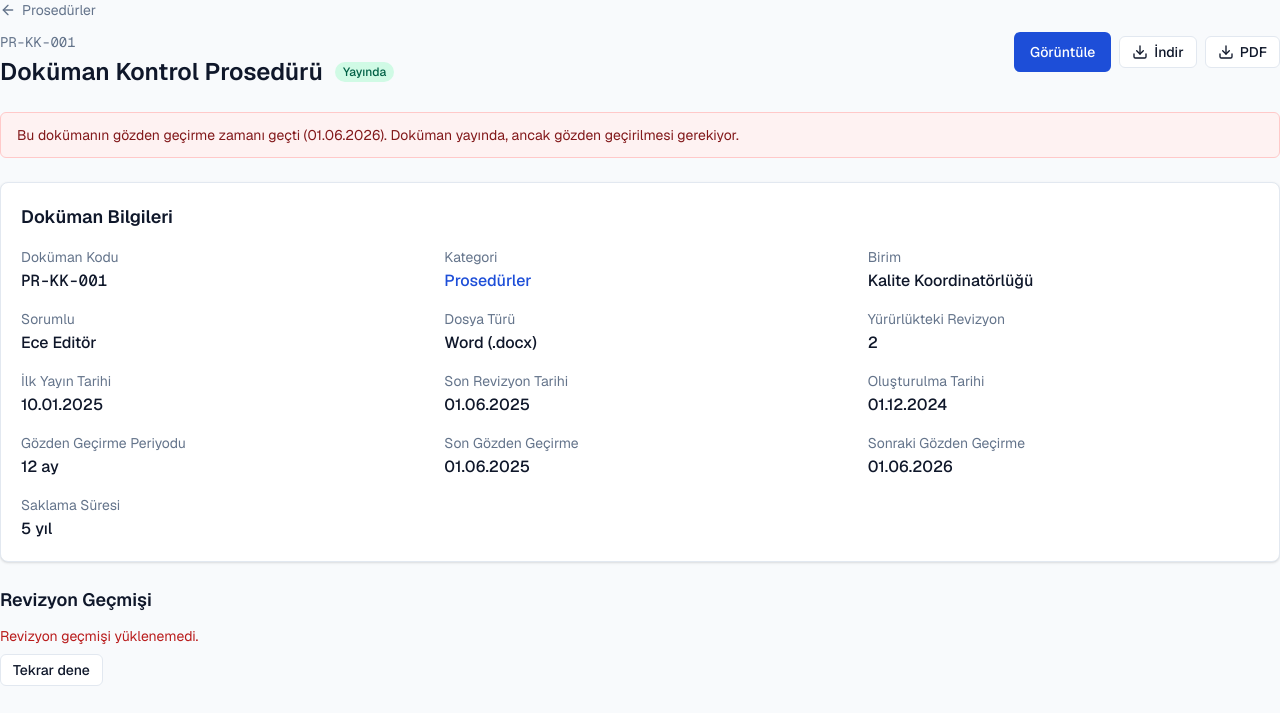
Test: DocumentDetail › revision history › shows its own error without hiding the document, and can retry
Expected: the text "Revizyon geçmişi yüklenemedi." is shown, [0, 627, 198, 645]
Expected: the heading "Doküman Kontrol Prosedürü Yayında" is shown, [0, 56, 394, 88]
Click the button "Tekrar dene" at coordinates (51, 670), box [0, 654, 103, 686]
(page scrolled)
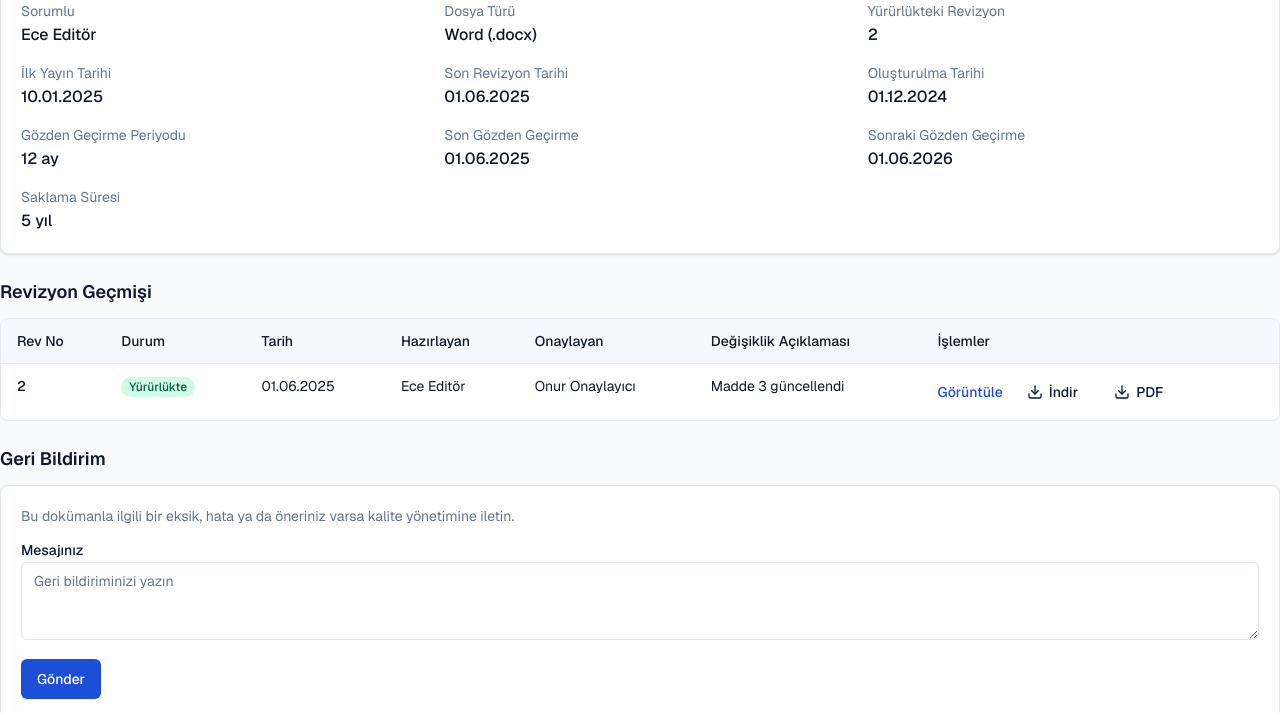
Expected: the table named "Revizyon geçmişi" is shown, [1, 319, 1279, 420]
